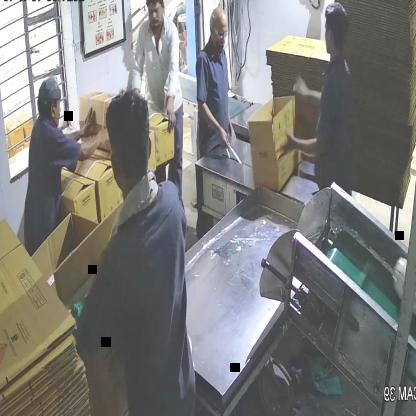no_glove: (276, 116, 334, 165), (195, 99, 231, 157), (78, 116, 119, 166), (160, 46, 182, 139), (58, 104, 96, 151)
